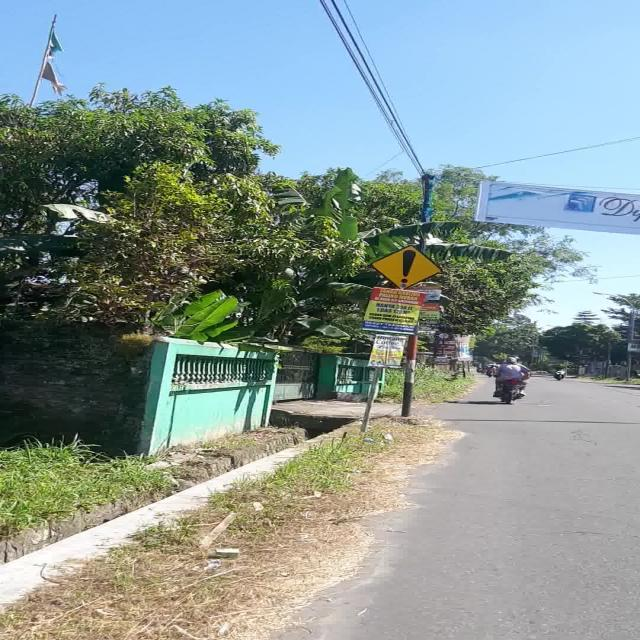Hati-Hati: (370, 244, 443, 290)
